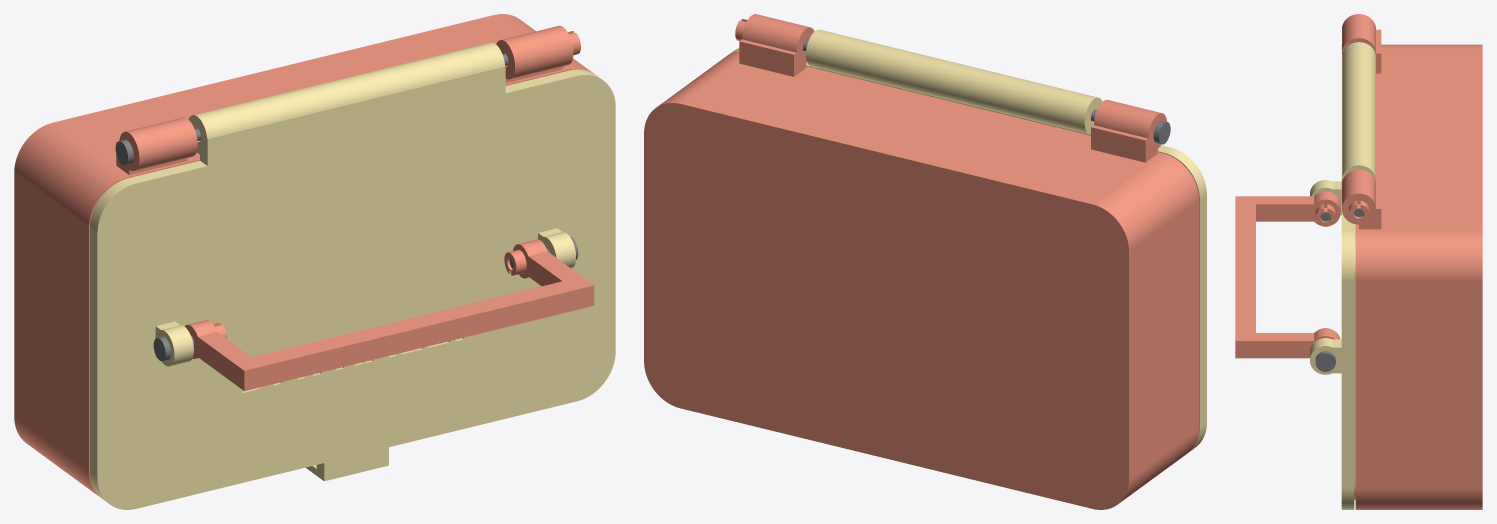
File: dayrally-case-closed.glb
The picture shows the model from 3 angles, left to right: view 1: azimuth 30°, elevation 25°; view 2: azimuth 150°, elevation 25°; view 3: azimuth 270°, elevation 25°; orthographic projection. The views are drawn at different scales.
Visible parts, largest first — view 1: rally-lid__2, rally-case__1, rally-folding-handle__3; view 2: rally-case__1, rally-lid__2; view 3: rally-case__1, rally-lid__2, rally-folding-handle__3, rally-handle-pin__8, rally-pin-cap__9, rally-pin-cap__6.
Part boxes in pixels (x1,y1,x2,y2): rally-lid__2: (90, 42, 615, 509); rally-case__1: (14, 14, 593, 496); rally-folding-handle__3: (185, 239, 594, 390); rally-case__1: (644, 14, 1198, 509); rally-lid__2: (728, 29, 1206, 451); rally-case__1: (1342, 14, 1482, 509); rally-lid__2: (1310, 42, 1375, 509); rally-folding-handle__3: (1235, 191, 1340, 358); rally-handle-pin__8: (1315, 351, 1335, 371); rally-pin-cap__9: (1315, 204, 1335, 226); rally-pin-cap__6: (1349, 200, 1368, 222).
Size of the model in its own units: 0.16 by 0.1138 by 0.078.
